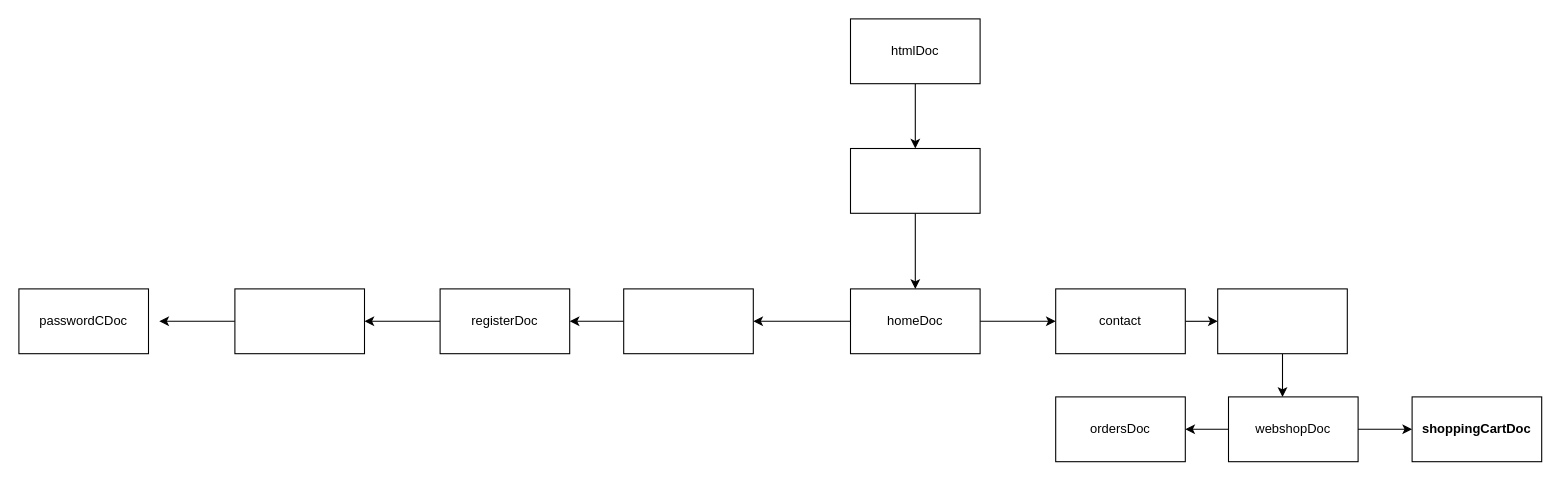
This 1561x481 diagram has some shape labels left out. Each missing label, with the centre of its shape:
"about" goes at pixel 688 321.
"basicDoc" goes at pixel 914 180.
"loginDoc" goes at pixel 299 321.
"productDoc" goes at pixel 1282 321.
